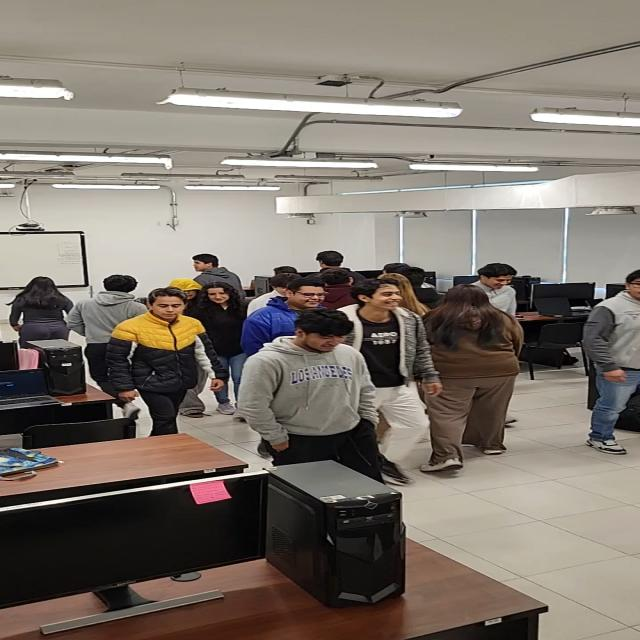Persona: (238, 310, 386, 486), (336, 276, 445, 485), (420, 283, 526, 472), (105, 287, 230, 436), (582, 269, 640, 455), (62, 274, 150, 384), (192, 279, 254, 415), (241, 276, 328, 365), (6, 274, 77, 342), (466, 261, 520, 317), (188, 253, 245, 295), (170, 277, 200, 308), (316, 250, 343, 268)
